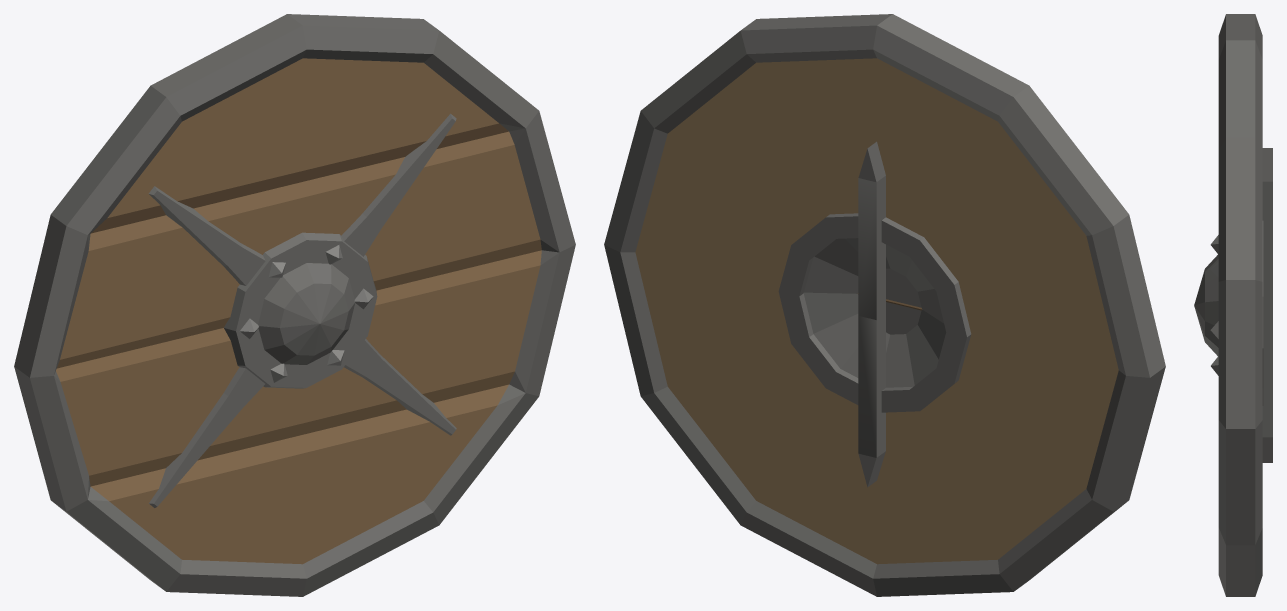
File: SM_pwe_slavic_shield_02d.fbx
3 renders of one model, left to right at view 1: azimuth 30°, elevation 25°; view 2: azimuth 150°, elevation 25°; view 3: azimuth 270°, elevation 25°, orthographic. The views are drawn at different scales.
Visible parts, largest first — view 1: SM_pwe_slavic_shield_02d; view 2: SM_pwe_slavic_shield_02d; view 3: SM_pwe_slavic_shield_02d.
Part boxes in pixels (x1=…): SM_pwe_slavic_shield_02d: x1=14, y1=14, x2=575, y2=596; SM_pwe_slavic_shield_02d: x1=604, y1=14, x2=1165, y2=596; SM_pwe_slavic_shield_02d: x1=1194, y1=14, x2=1272, y2=596.
Bounding box in the file's own units: 70.52 × 70.52 × 9.5.
